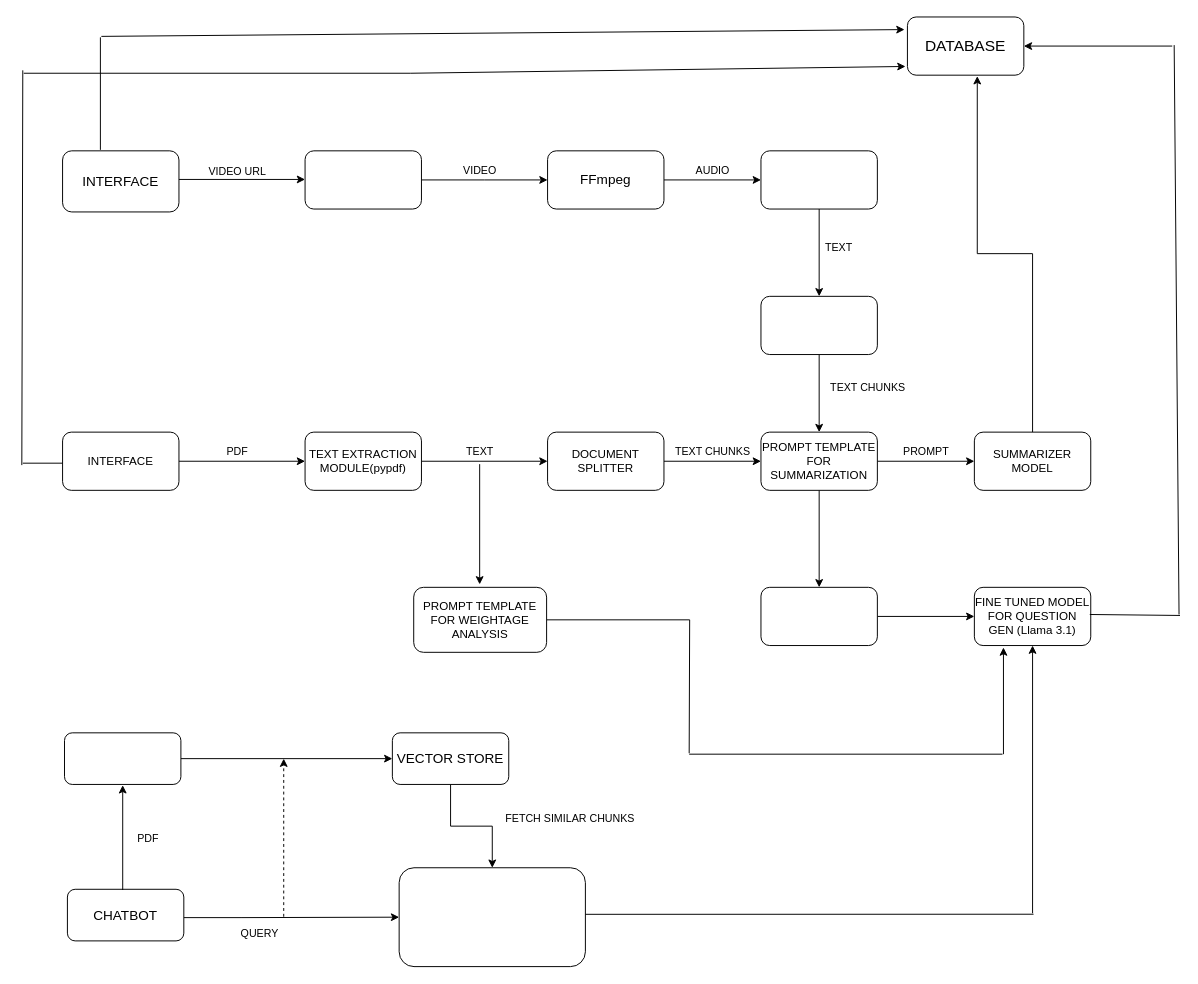
Some shapes in this 1198 by 984 pixel diagram are drawn without their labels. Here are the shapes that lost their labels. From the top down, the centre of each, then its label:
At point (362, 179): "VIDEO DOWNLOADER".
At point (818, 179): "WHISPER".
At point (818, 325): "TEXT SPLITTER".
At point (818, 616): "PROMPT TEMPLATE FOR QUESTION GENERATION".
At point (122, 758): "EMBEDDING MODEL".
At point (491, 917): "CONTEXT QUERY PROMPT".
